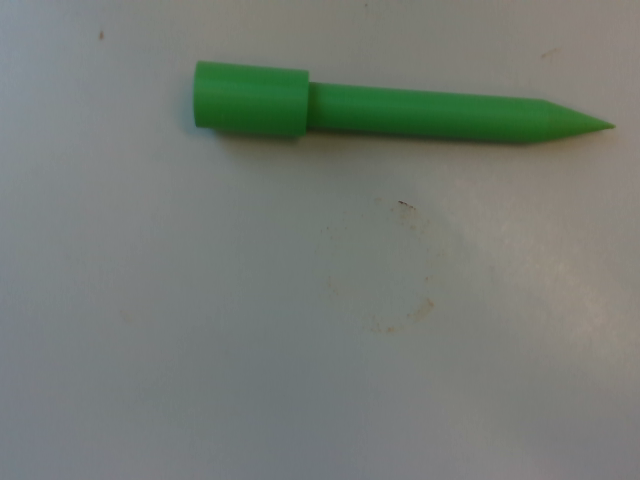Probe: (188, 53, 623, 157)
